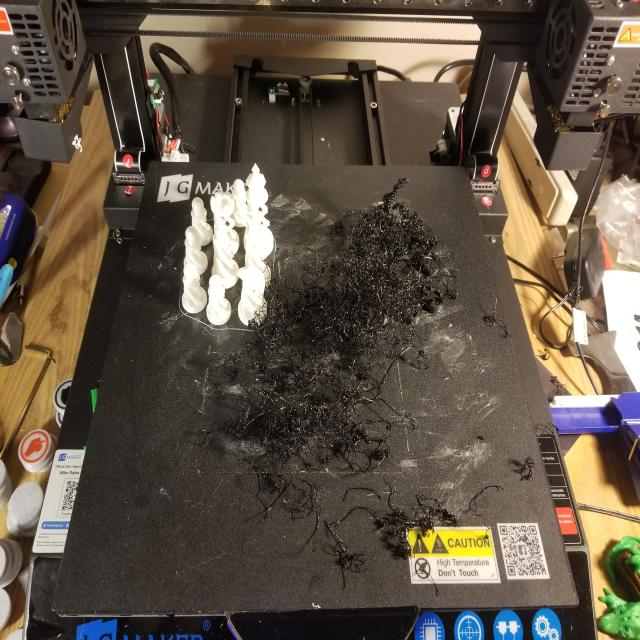Spaghetti: (216, 178, 446, 480), (255, 486, 470, 574), (482, 295, 512, 340), (512, 456, 537, 486)
